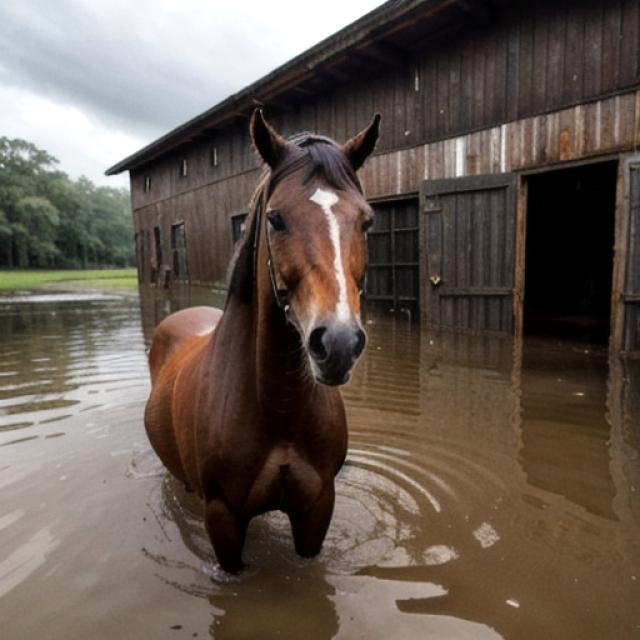horse: (118, 96, 416, 592)
